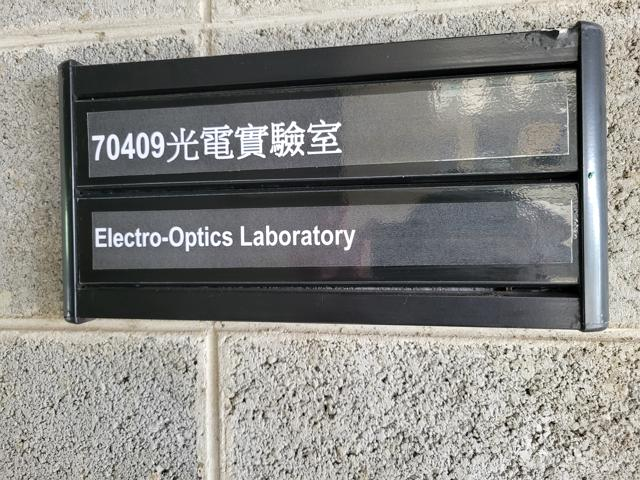doorplate: (54, 15, 621, 337)
